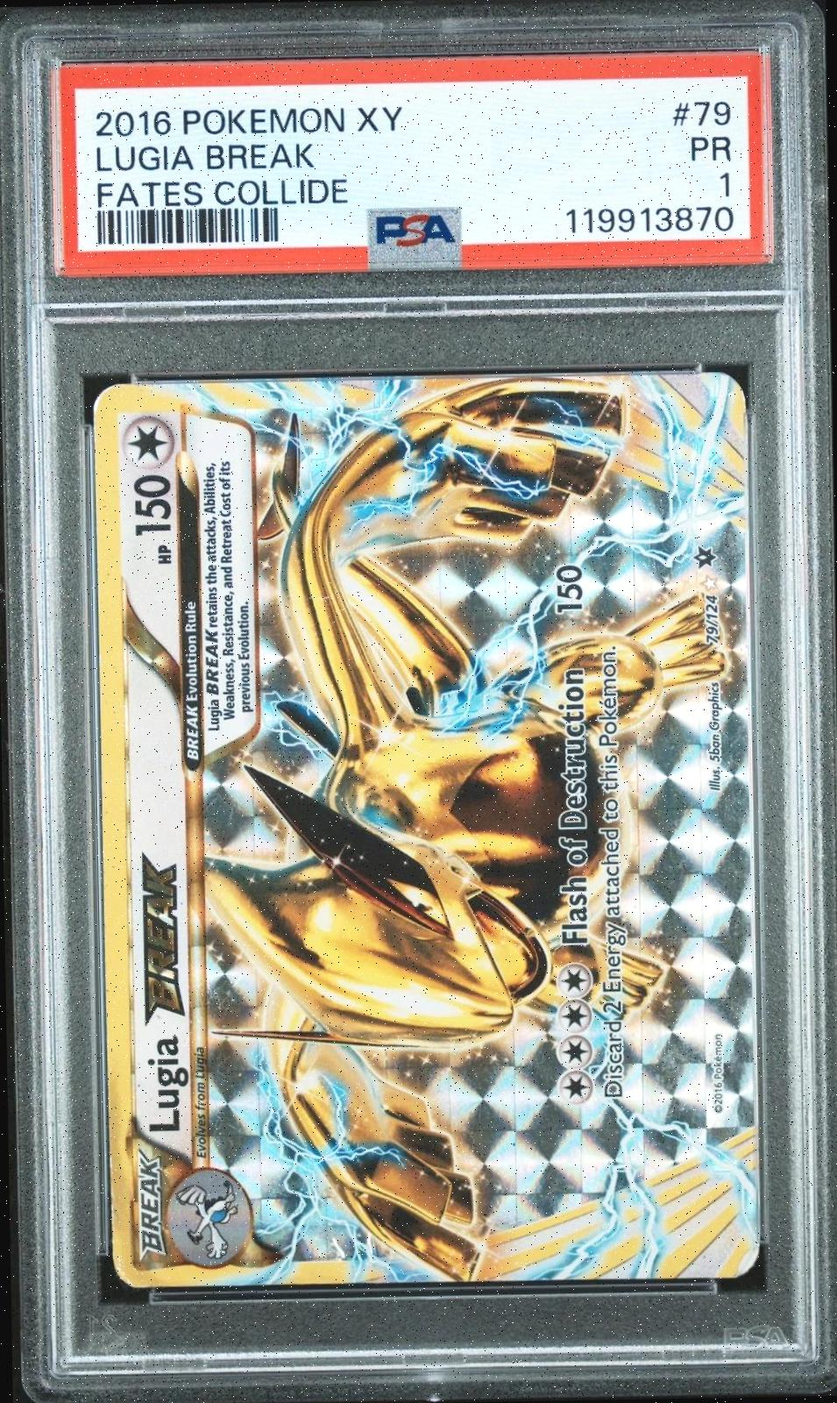card-2UtV: (92, 372, 760, 1288)
